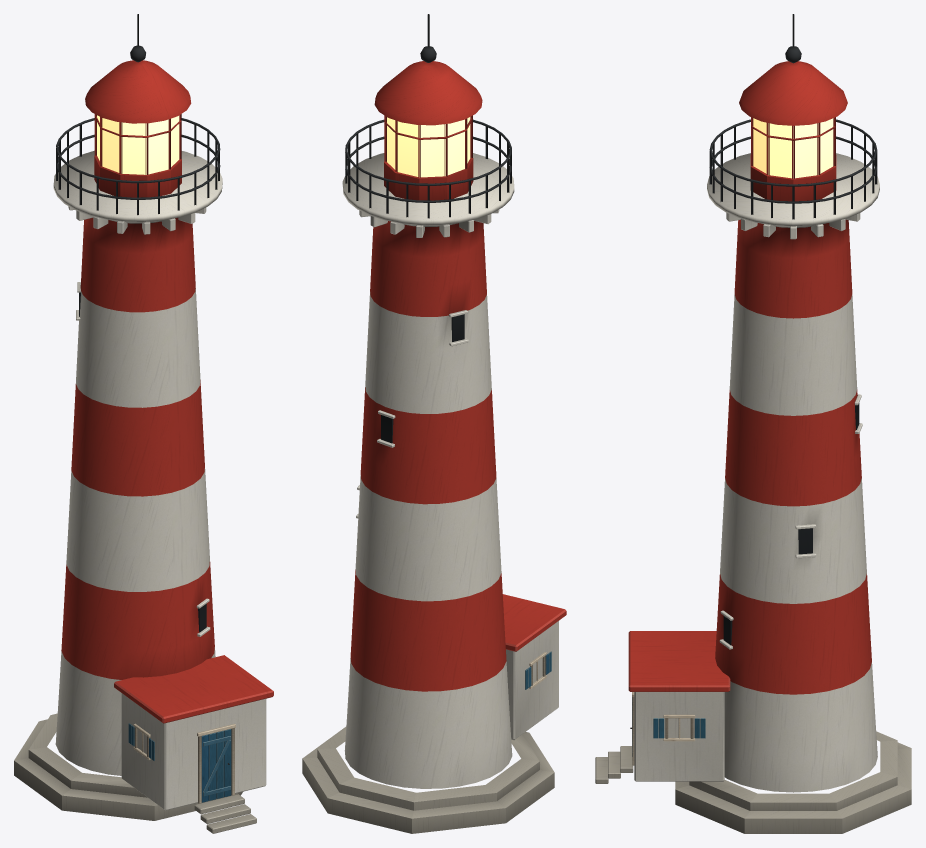
The model's file is lighthouse.glb.
The picture shows the model from 3 angles, left to right: view 1: azimuth 30°, elevation 25°; view 2: azimuth 150°, elevation 25°; view 3: azimuth 270°, elevation 25°; orthographic projection. The views are drawn at different scales.
Parts seen in each view (by area): view 1: tower, glass; view 2: tower, glass; view 3: tower, glass.
Boxes of the visible parts, bbox=[...] form: tower: bbox=[14, 14, 273, 833]; glass: bbox=[97, 115, 179, 174]; tower: bbox=[302, 14, 566, 833]; glass: bbox=[387, 117, 470, 177]; tower: bbox=[595, 14, 911, 833]; glass: bbox=[753, 118, 833, 178].
Bounding box in the file's own units: 6.28 × 22.6 × 8.41.
5 materials, 3 textured.
